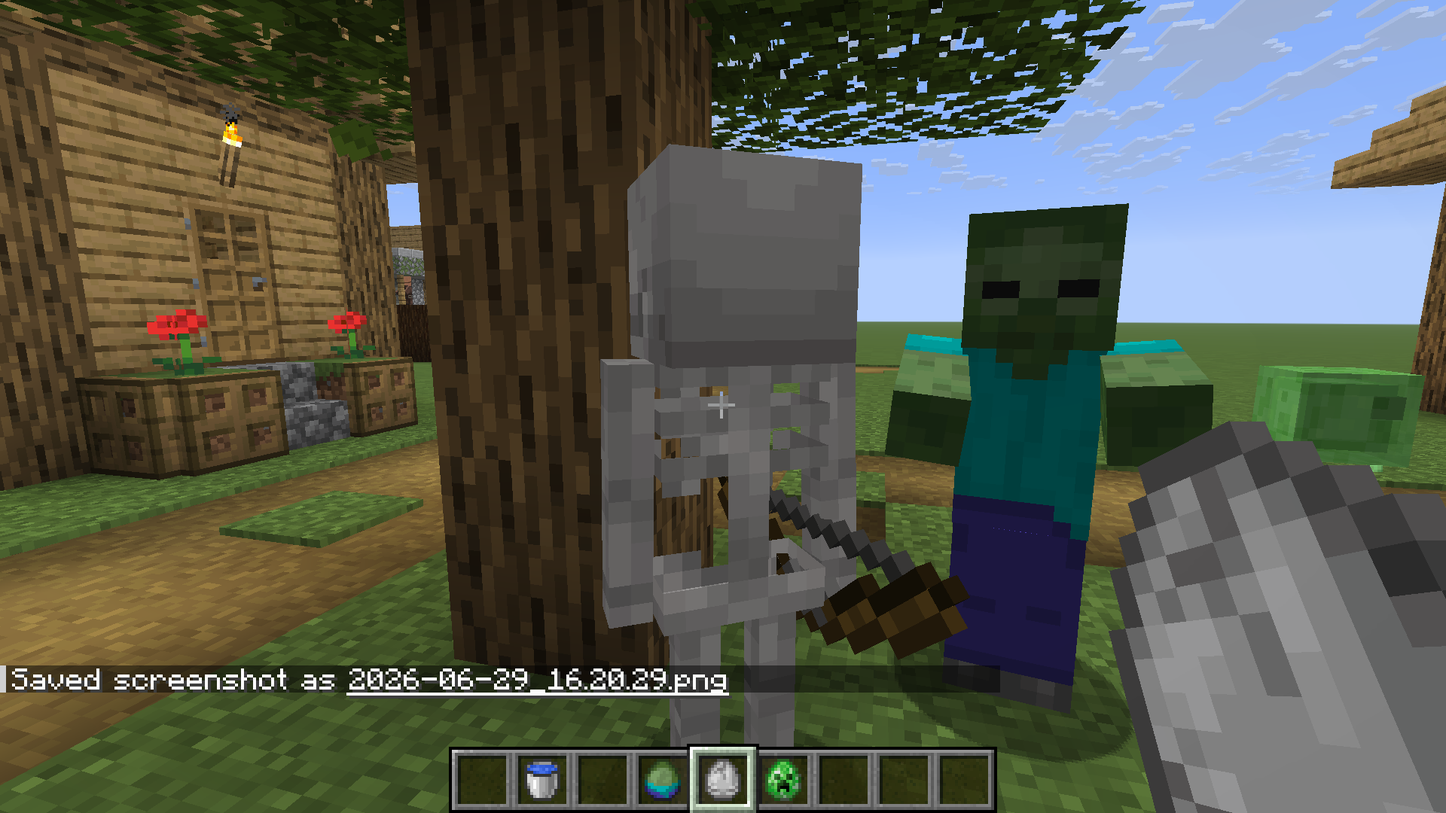skeleton: (609, 163, 935, 749)
zombie: (896, 190, 1203, 454)
